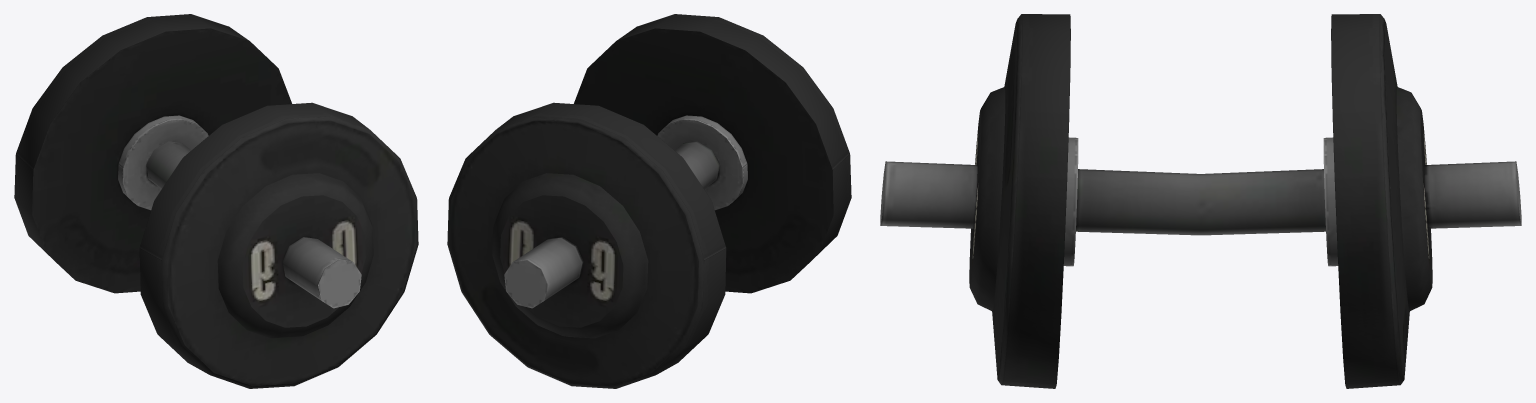
3 views of the same model, side by side, from view 1: azimuth 30°, elevation 25°; view 2: azimuth 150°, elevation 25°; view 3: azimuth 270°, elevation 25° (orthographic). The views are drawn at different scales.
Parts seen in each view (by area): view 1: body0_model0_lod0_mesh0; view 2: body0_model0_lod0_mesh0; view 3: body0_model0_lod0_mesh0.
Part boxes in pixels (x1=…): body0_model0_lod0_mesh0: x1=14, y1=14, x2=418, y2=388; body0_model0_lod0_mesh0: x1=447, y1=14, x2=851, y2=388; body0_model0_lod0_mesh0: x1=880, y1=14, x2=1521, y2=388.
Size of the model in its own units: 15.76 by 15.27 by 26.16.
Materials: 1 (1 with a texture image).
